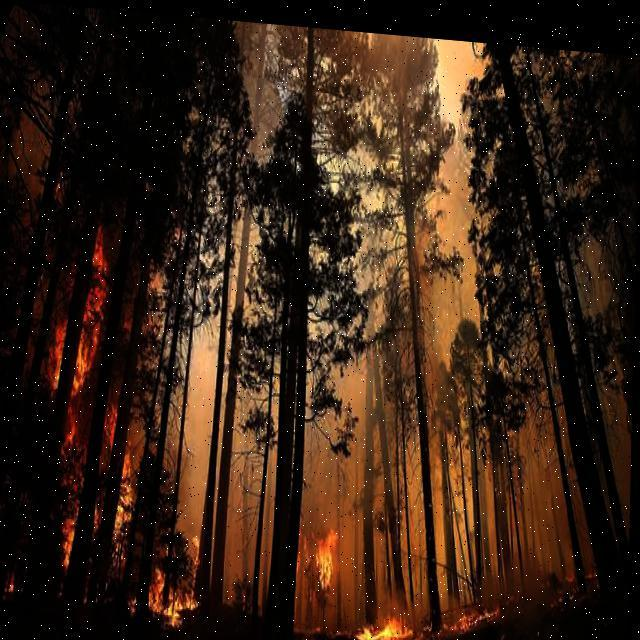Fire: (60, 216, 214, 628), (313, 523, 521, 639)
